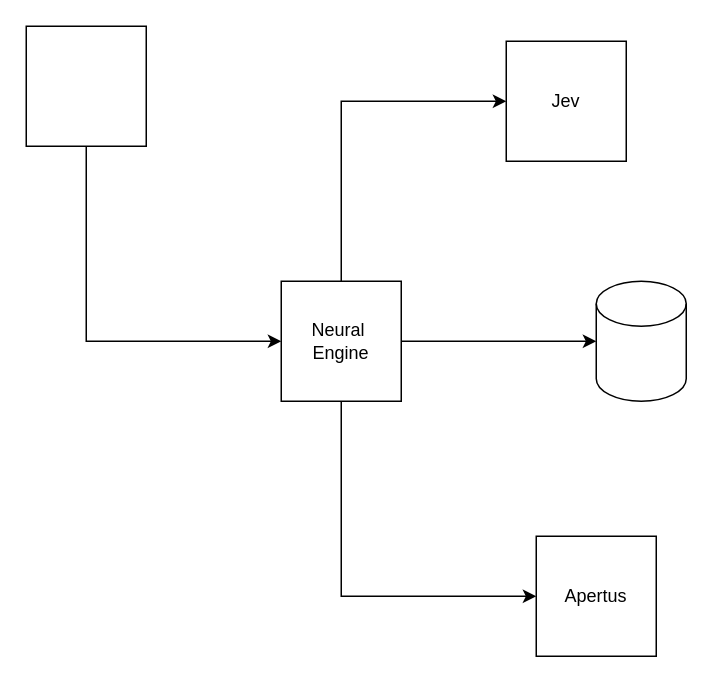
Image size: 713x683. Some labels were removed from this diagram. The centre of each missing label's shape, as x and y in pixels:
"Frontend" goes at (85,85).
"RAG" goes at (640,340).
